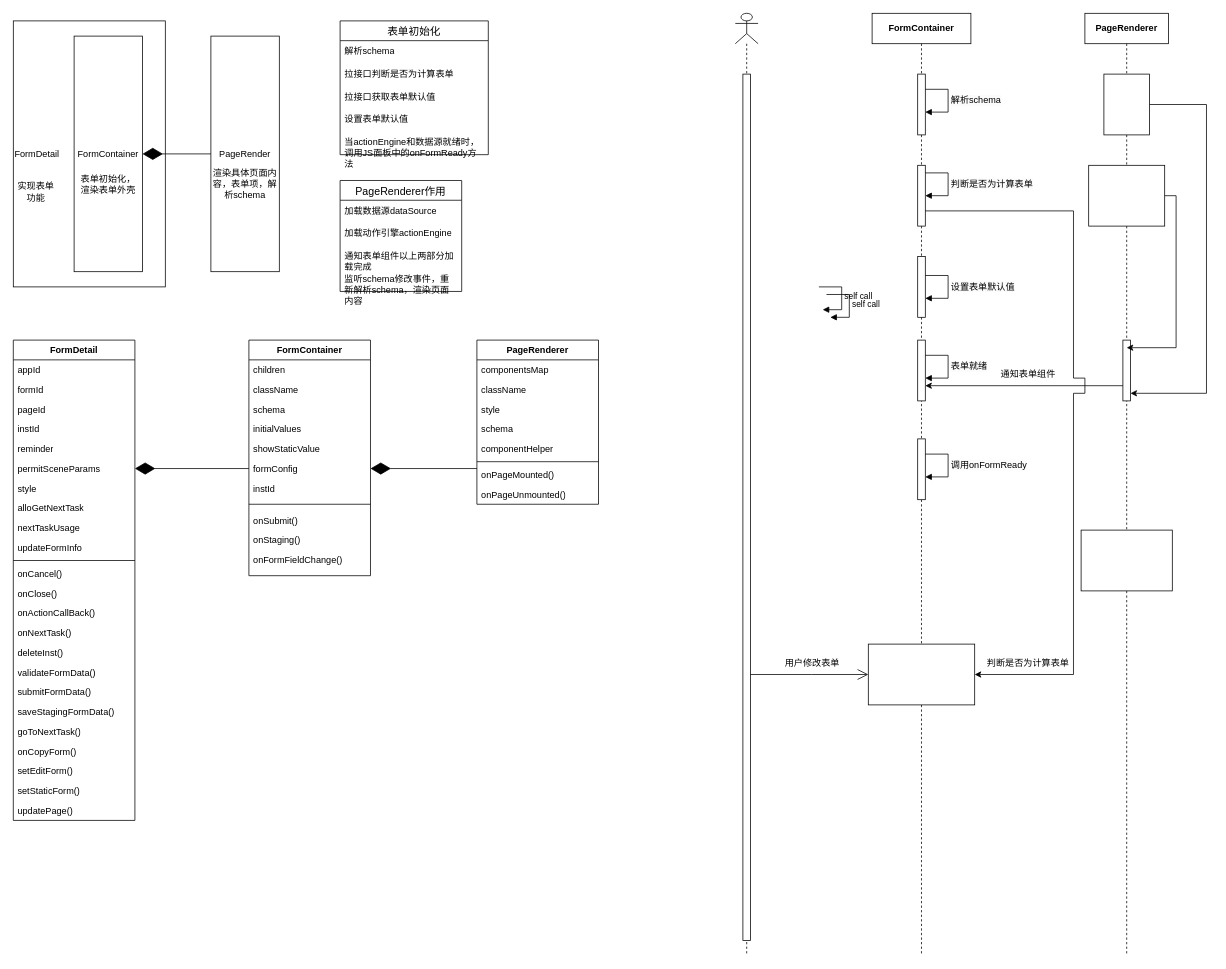
This 1226x969 diagram has some shape labels left out. Each missing label, with the centre of its shape:
"加载动作引擎" goes at (x=1126, y=195).
"加载数据源" goes at (x=1126, y=104).
"调用onFormFieldChange" goes at (x=921, y=674).
"调用onMounted" goes at (x=1126, y=560).
